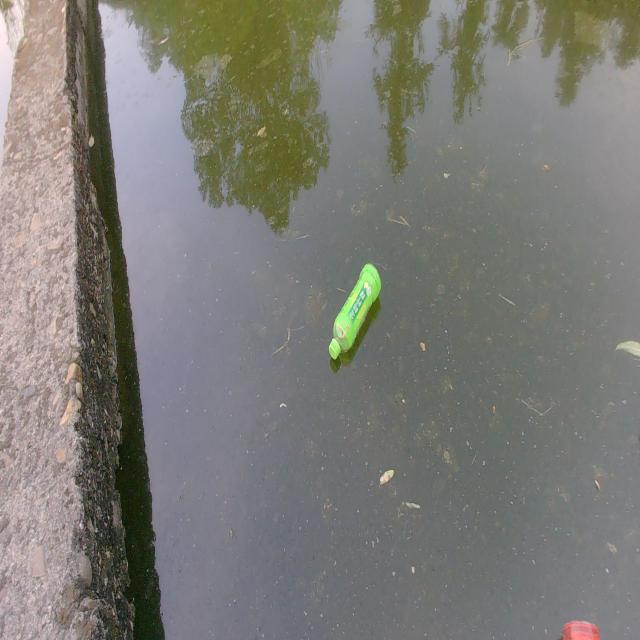Bottle: (326, 257, 383, 368)
